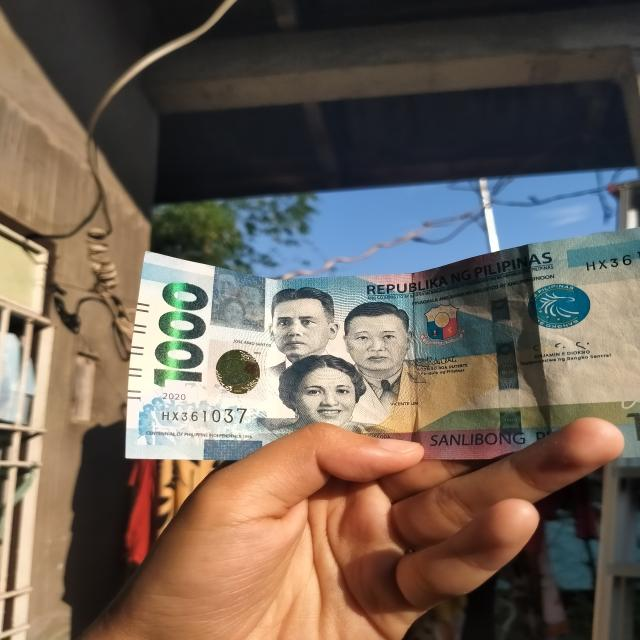concealed_value: (210, 266, 266, 332)
optically_variable_device: (208, 340, 268, 400)
value: (154, 276, 204, 396)
